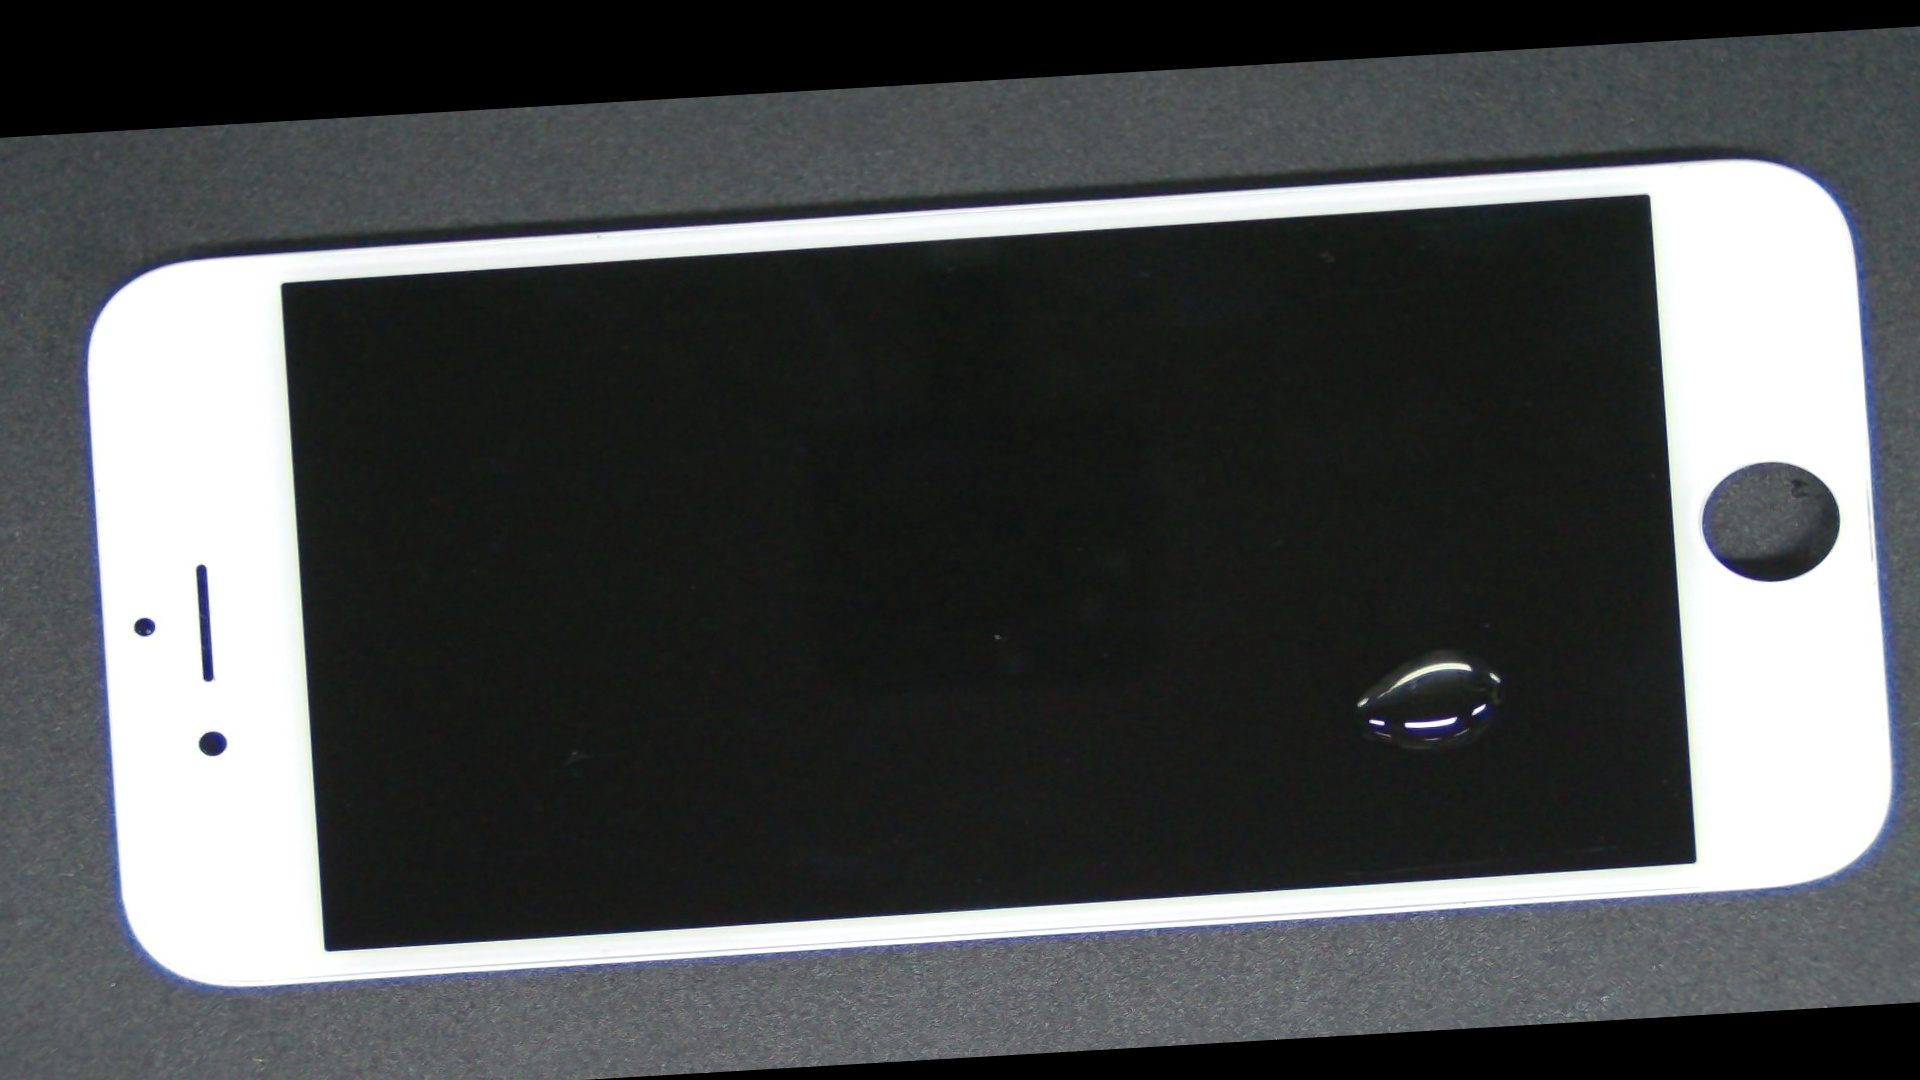oil: (688, 320, 1920, 985)
